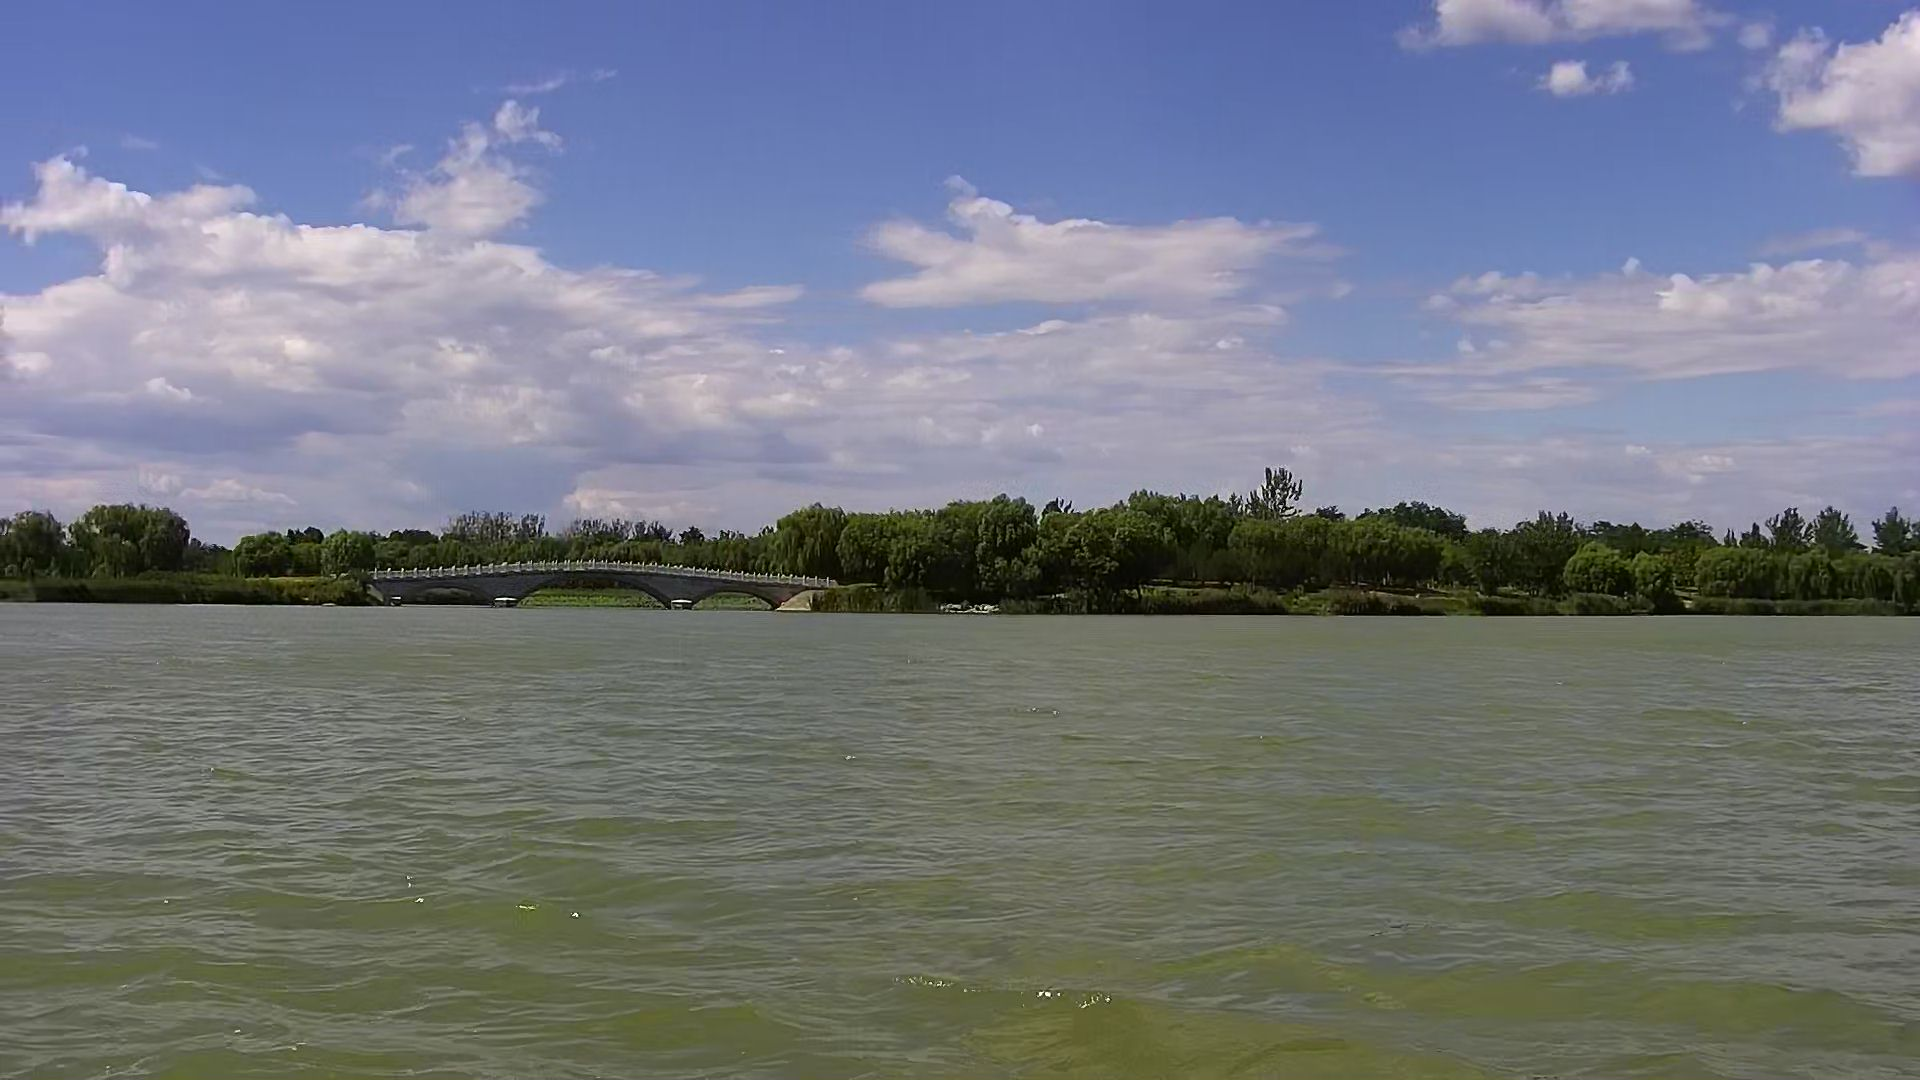bridge: (361, 560, 844, 612)
